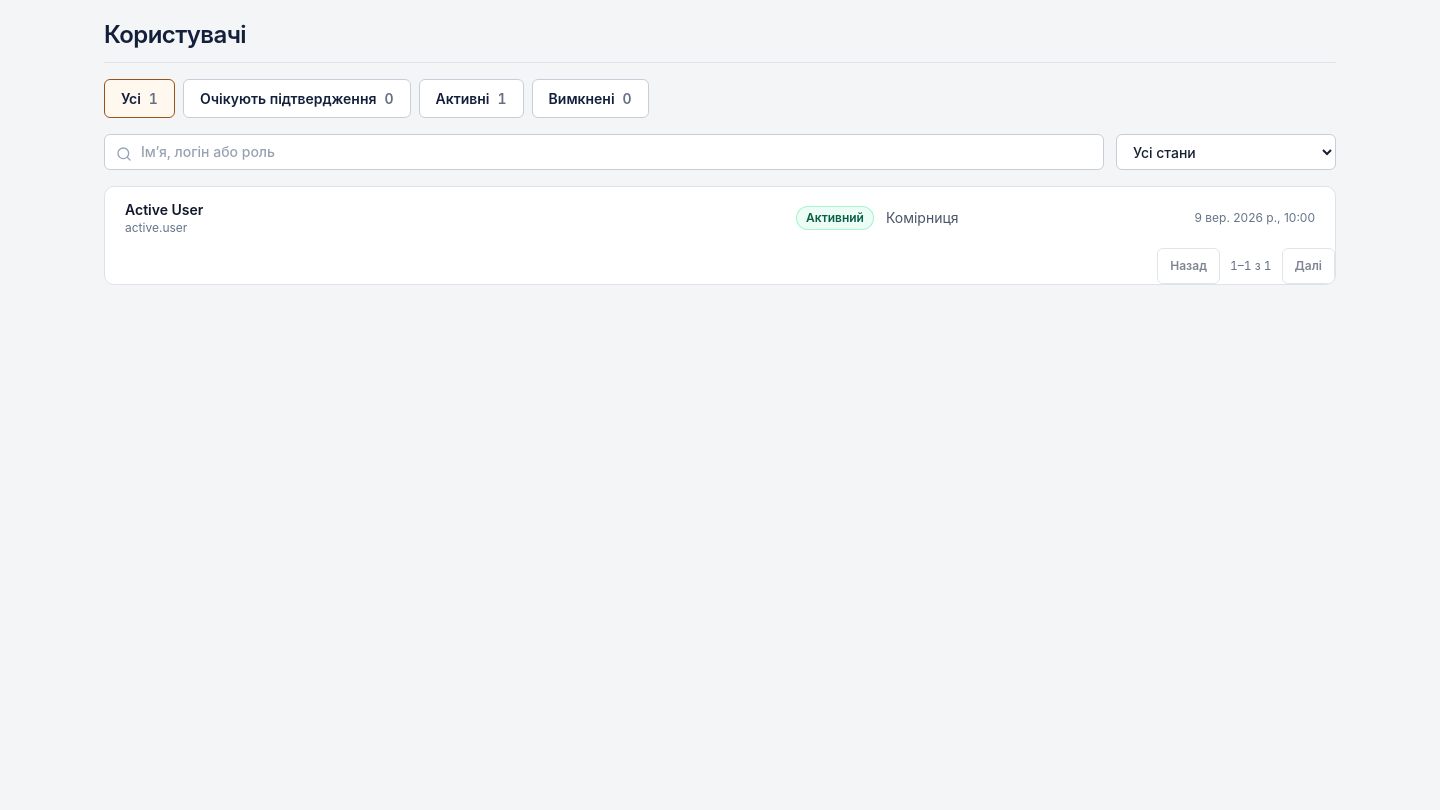
Test: application-user administration UI › announces an access-command failure inside the active user drawer
This screenshot has width=1440, height=810.
Click the button with aria-label "Відкрити Active User" at (164, 210), box [105,187,1335,248]
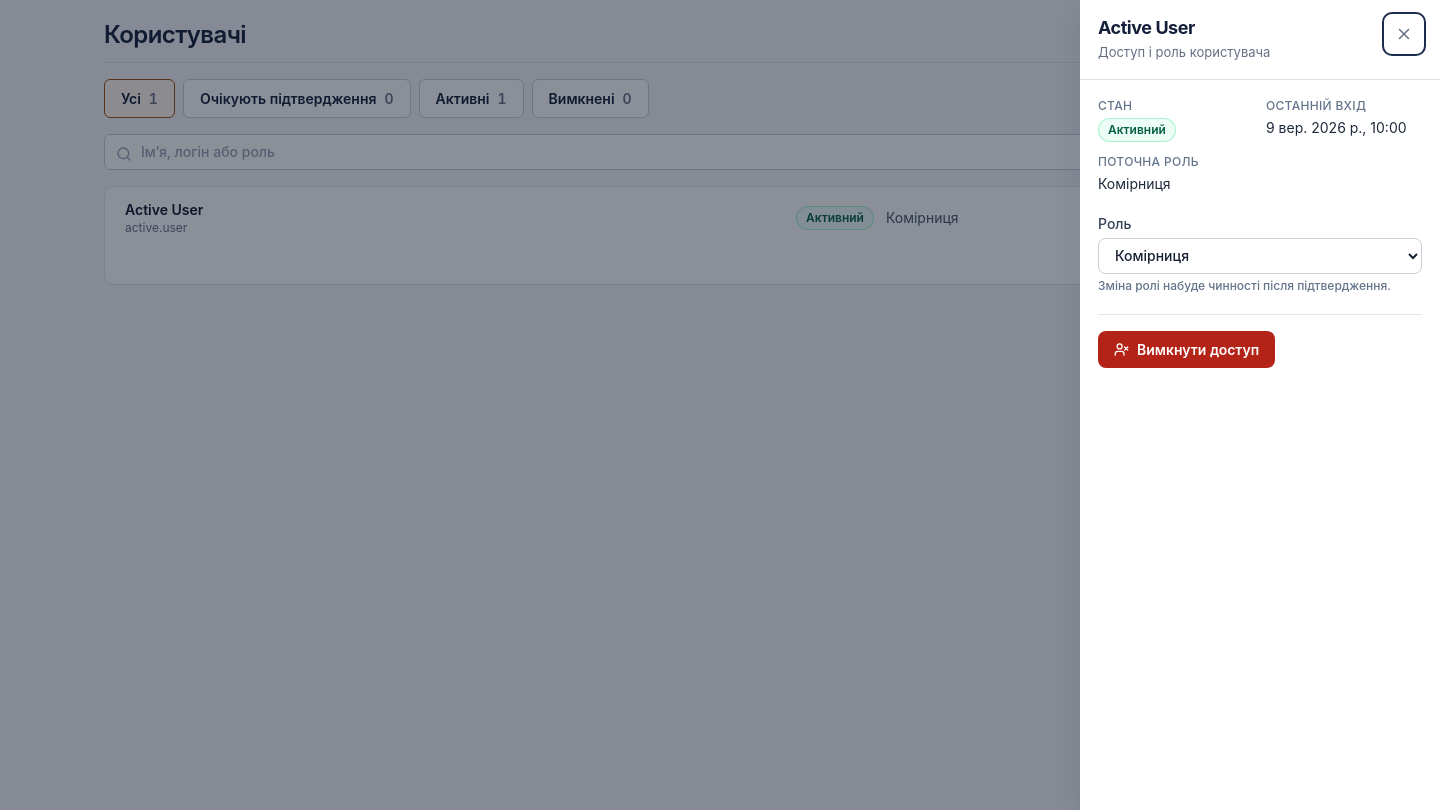
Click the button with aria-label "Вимкнути доступ для Active User" at (1187, 349), box [1098,331,1275,368]
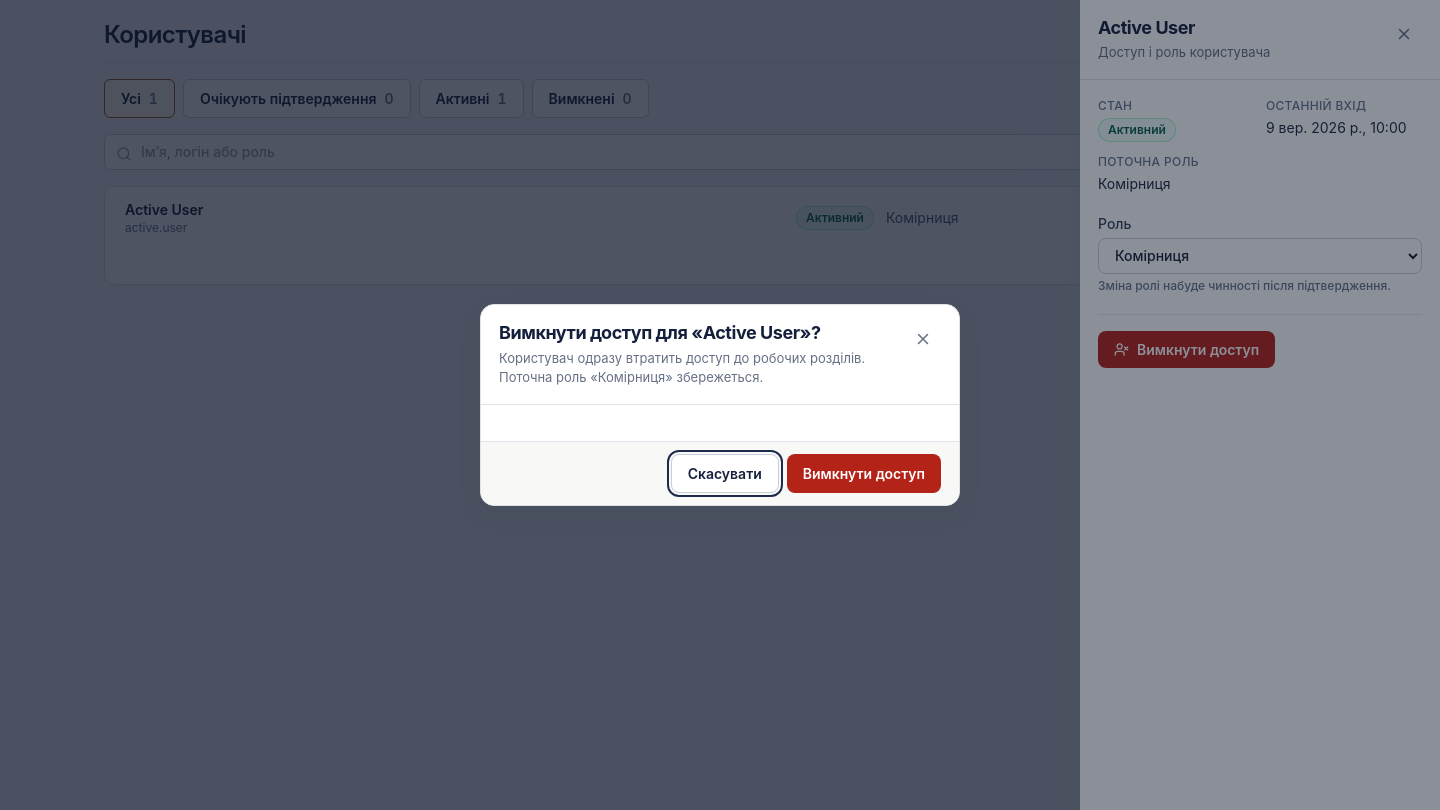
Click the button "Вимкнути доступ" at (864, 473), box [787,454,941,493]
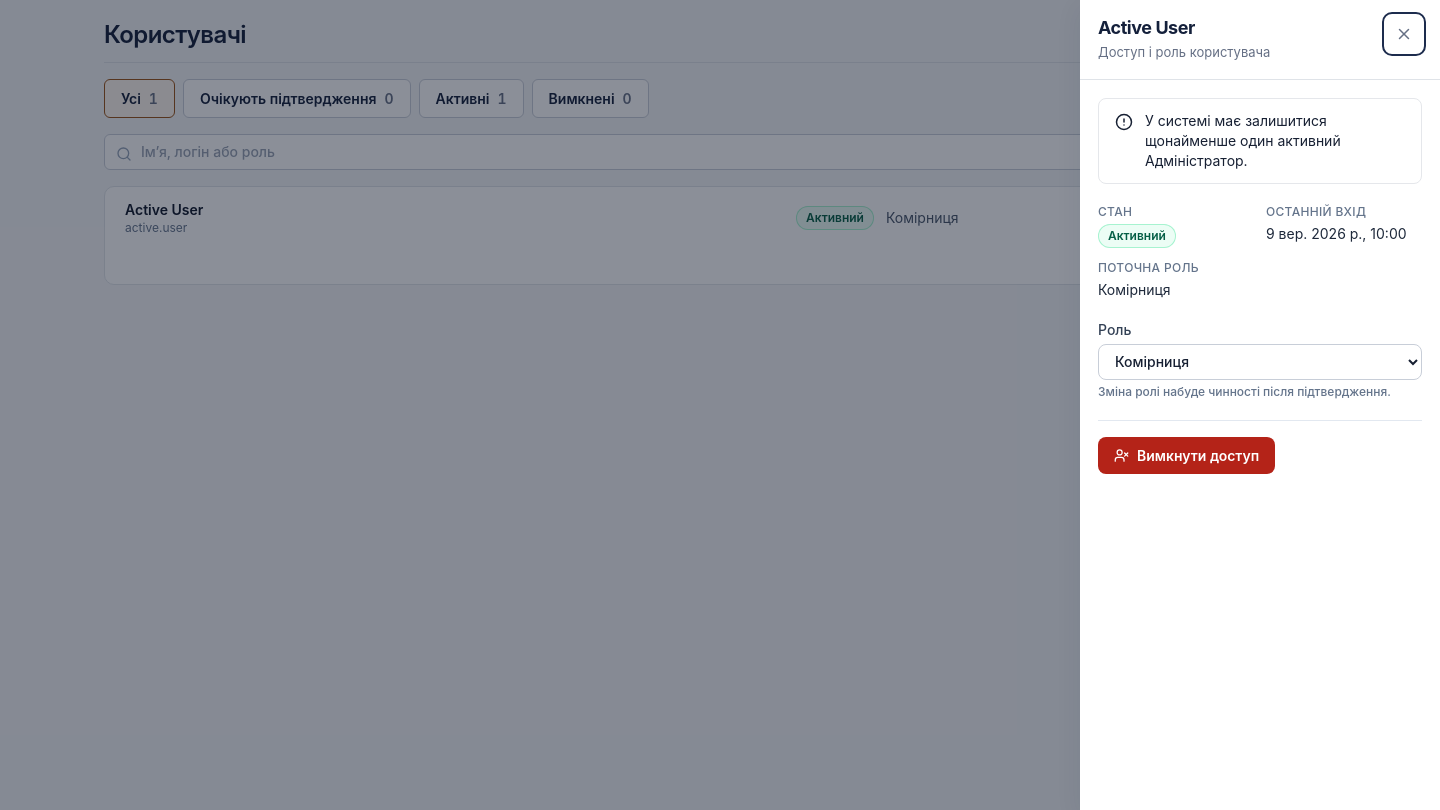
Expected: the message reads "У системі має залишитися щонайменше один активний Адміністратор.", [1145,112,1341,169]
